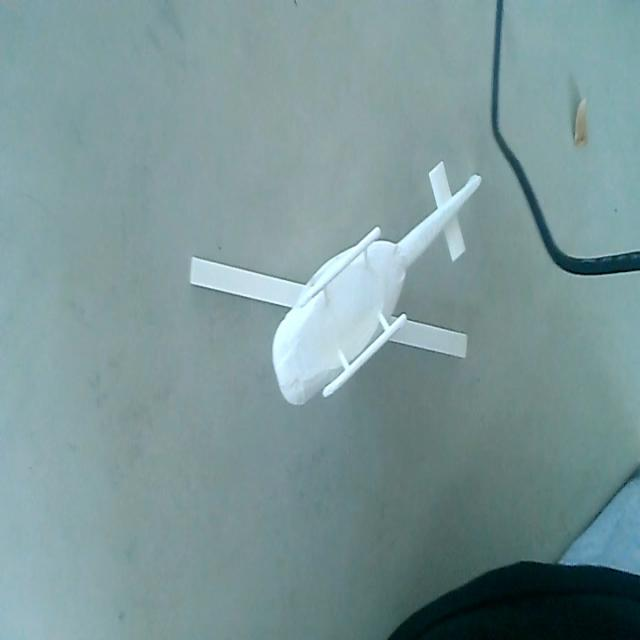Helicopter: (188, 156, 481, 395)
